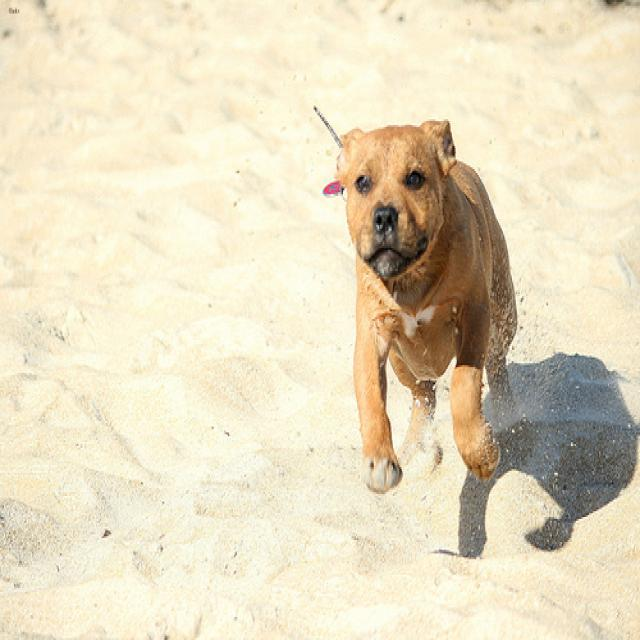dog-staffordshire_bull_terrier: (324, 102, 530, 500)
